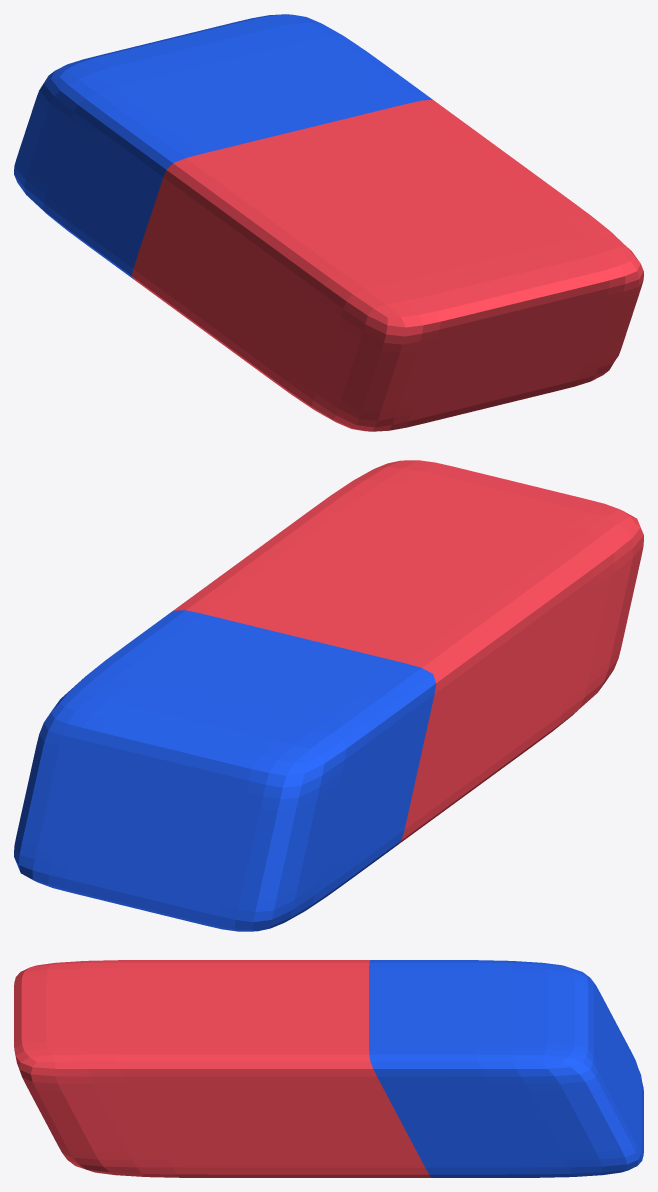
The model's file is eraser.fbx.
The picture shows the model from 3 angles, top to bottom: view 1: azimuth 30°, elevation 25°; view 2: azimuth 150°, elevation 25°; view 3: azimuth 270°, elevation 25°; orthographic projection. The views are drawn at different scales.
Parts seen in each view (by area): view 1: Cube; view 2: Cube; view 3: Cube.
Boxes of the visible parts, left/top/right/bottom form: Cube: left=14, top=14, right=643, bottom=431; Cube: left=14, top=460, right=643, bottom=931; Cube: left=14, top=960, right=643, bottom=1177.
Bounding box in the file's own units: 79.2 × 42.24 × 199.
